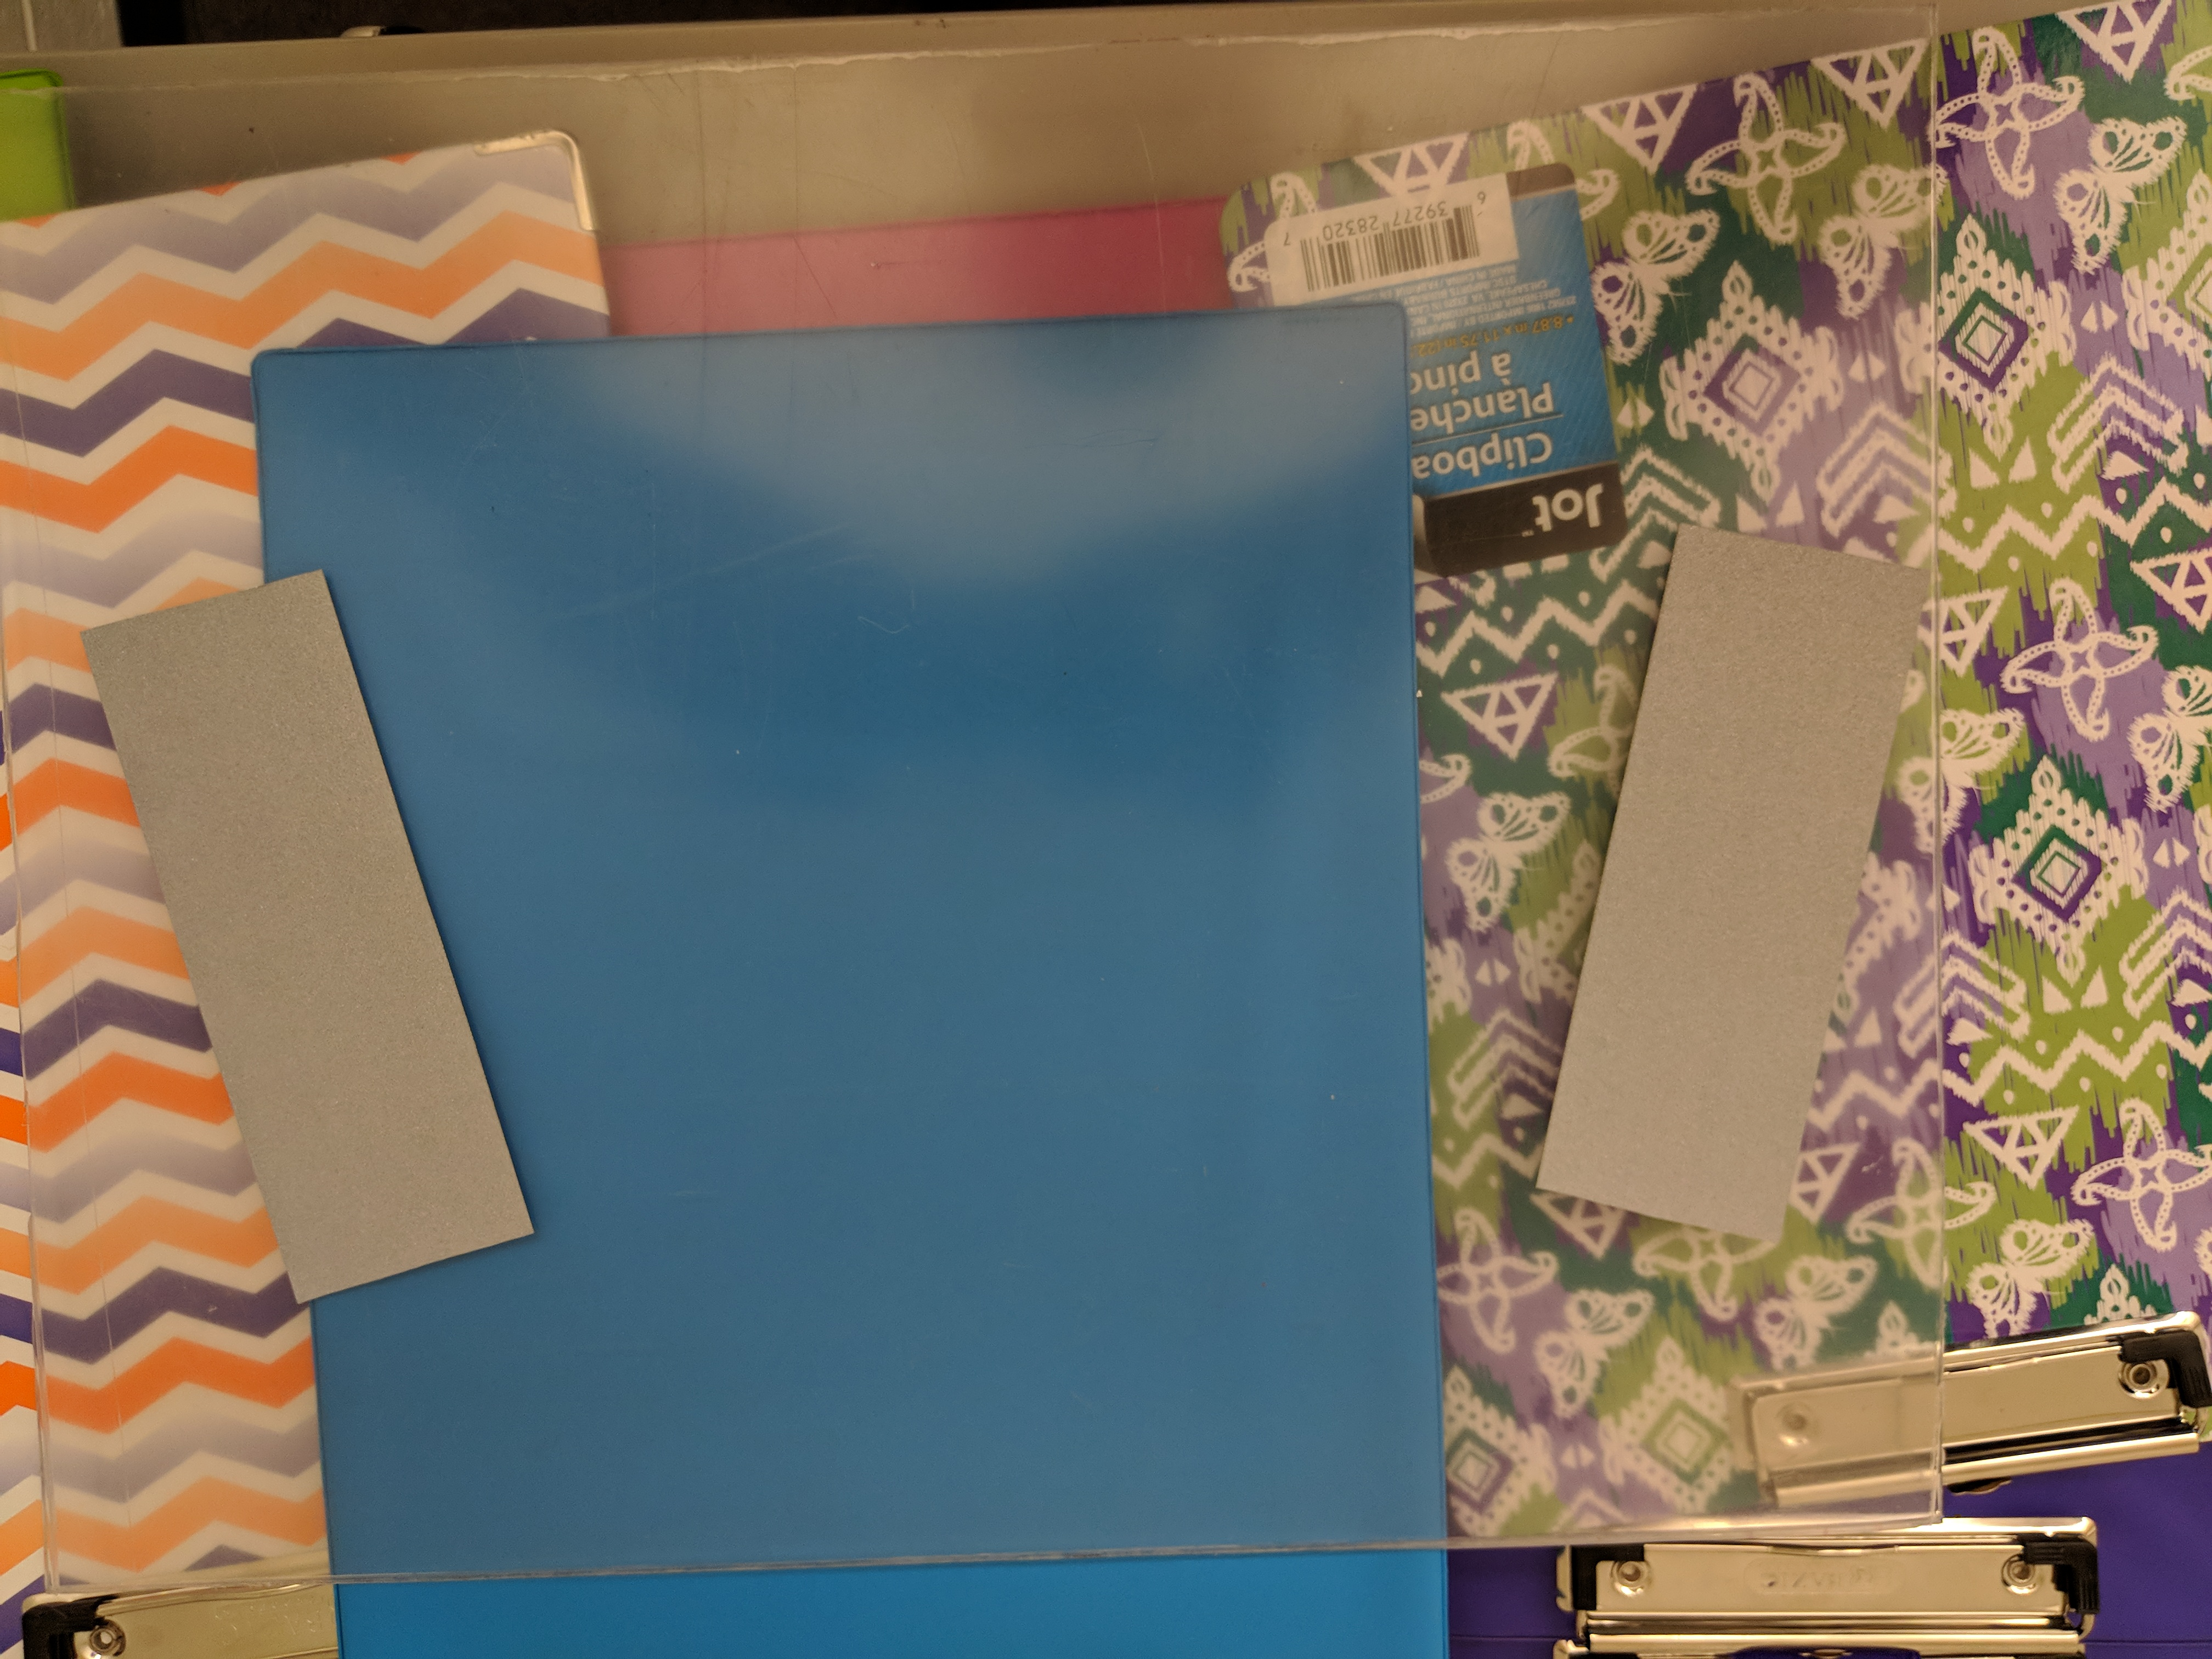vision_target: (63, 516, 1946, 1331)
